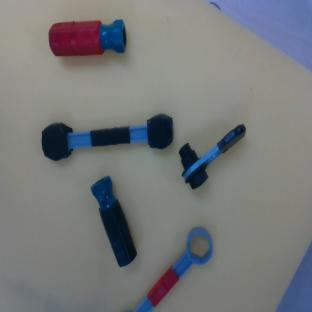part_1_bad: (166, 107, 254, 191)
part_2_bad: (87, 175, 141, 267)
part_2_good: (48, 19, 127, 57)
part_3_bad: (39, 110, 175, 162)
part_3_good: (128, 222, 223, 312)
